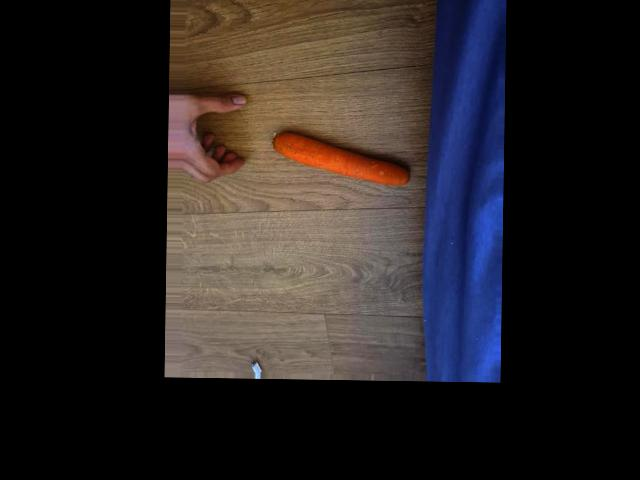carrot: (272, 132, 412, 184)
